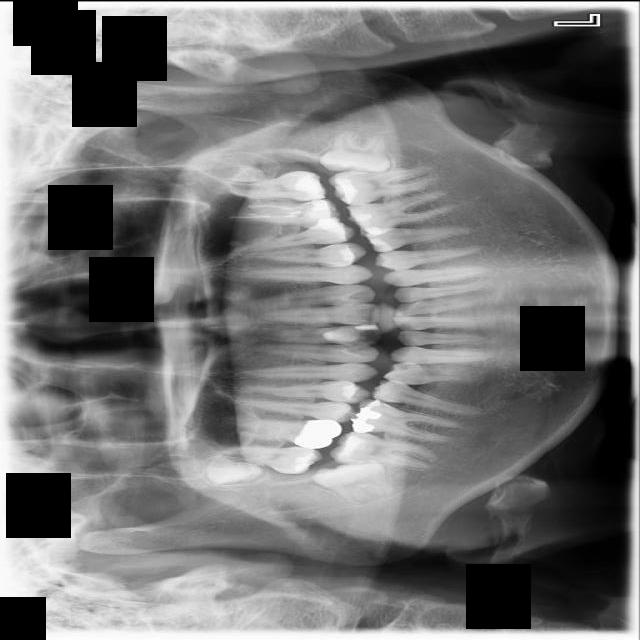3M ESPE Implant: (204, 448, 265, 487)
52: (341, 187, 400, 247), (327, 166, 385, 208), (344, 394, 396, 436), (329, 428, 385, 465), (295, 194, 344, 232), (266, 444, 324, 474), (278, 169, 330, 202), (315, 238, 369, 269), (316, 377, 372, 405), (291, 419, 343, 448), (308, 218, 357, 245), (323, 323, 382, 345), (365, 227, 406, 252)
73: (225, 196, 308, 225), (551, 28, 569, 32)
BioHorizons Implant: (222, 170, 329, 201)
Biomet 3i Implant: (320, 128, 395, 176)
Blue Sky Bio Implant: (327, 163, 439, 207)
Caries: (216, 445, 324, 473)
Implant: (328, 428, 437, 469)
Keystone Dental Implant: (310, 455, 392, 511)
